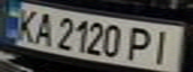0: (103, 21, 127, 60)
1: (69, 17, 90, 53)
2: (51, 15, 75, 52), (84, 19, 106, 56)
A: (30, 9, 57, 47)
I: (145, 27, 184, 65)
K: (9, 6, 42, 44)
P: (124, 25, 160, 63)
